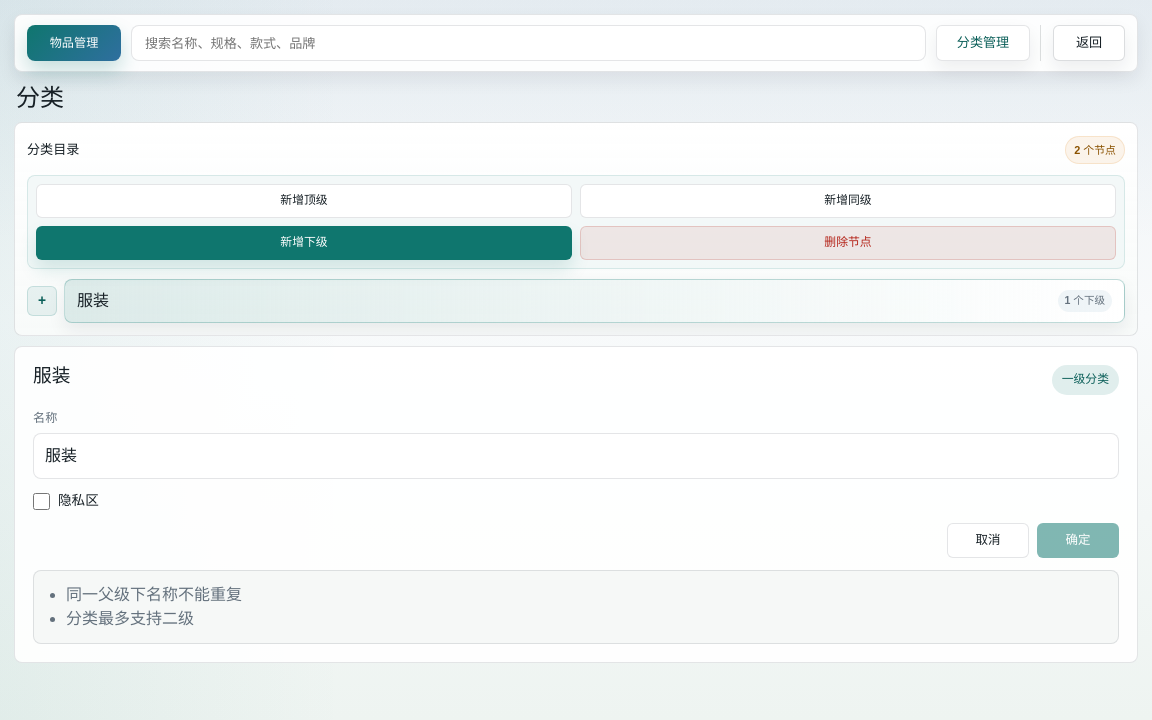
it: catalog editing and deletion › expands a tree node when clicking a collapsed parent row
The image size is (1152, 720).
What coordinates should you click on to do the following:
click the list item "服装"
I would click on:
 (93, 300)
Its box is left=64, top=279, right=1125, bottom=323.
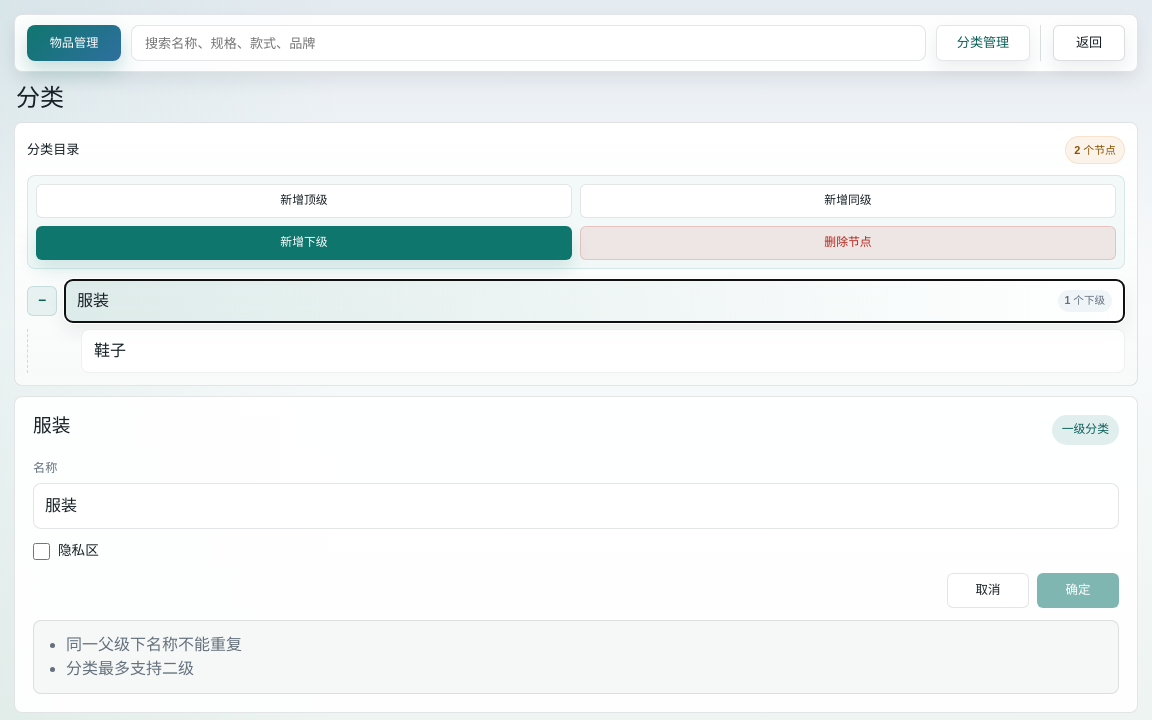
Expected: the list item "鞋子" is shown, left=81, top=329, right=1125, bottom=373
